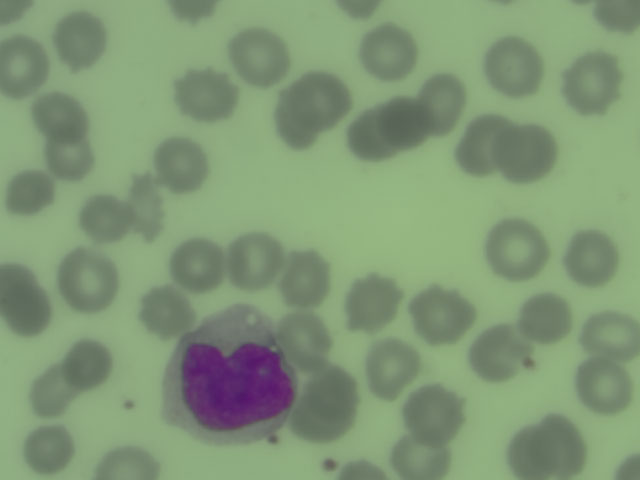Platelets: (116, 392, 140, 415), (319, 456, 341, 480), (522, 354, 540, 375), (267, 432, 286, 450)
RBC: (511, 415, 584, 480), (1, 265, 54, 333), (576, 306, 640, 359), (126, 167, 170, 243), (87, 440, 168, 480), (1, 33, 47, 102), (348, 273, 403, 329), (277, 308, 332, 364), (274, 247, 329, 303), (416, 286, 471, 342), (406, 386, 461, 442), (392, 424, 447, 480), (470, 325, 525, 381), (517, 289, 572, 345), (574, 361, 629, 417), (565, 233, 620, 289), (488, 223, 543, 279), (363, 341, 418, 397), (298, 382, 353, 438), (226, 231, 281, 287), (139, 281, 194, 337), (170, 236, 225, 292), (23, 418, 78, 474), (22, 362, 77, 418), (61, 337, 116, 393), (62, 253, 117, 309), (502, 126, 557, 182), (457, 115, 512, 171), (565, 54, 620, 110), (484, 39, 539, 95), (416, 74, 471, 130), (379, 95, 434, 151), (342, 106, 397, 162), (365, 26, 420, 82), (273, 91, 328, 147), (298, 67, 353, 123), (233, 29, 288, 85), (178, 66, 233, 122), (79, 190, 134, 246), (3, 166, 58, 222), (43, 126, 98, 182), (34, 86, 89, 142), (53, 12, 108, 68), (157, 136, 210, 192), (589, 1, 640, 36), (163, 1, 224, 27)
WBC: (178, 314, 297, 434)
